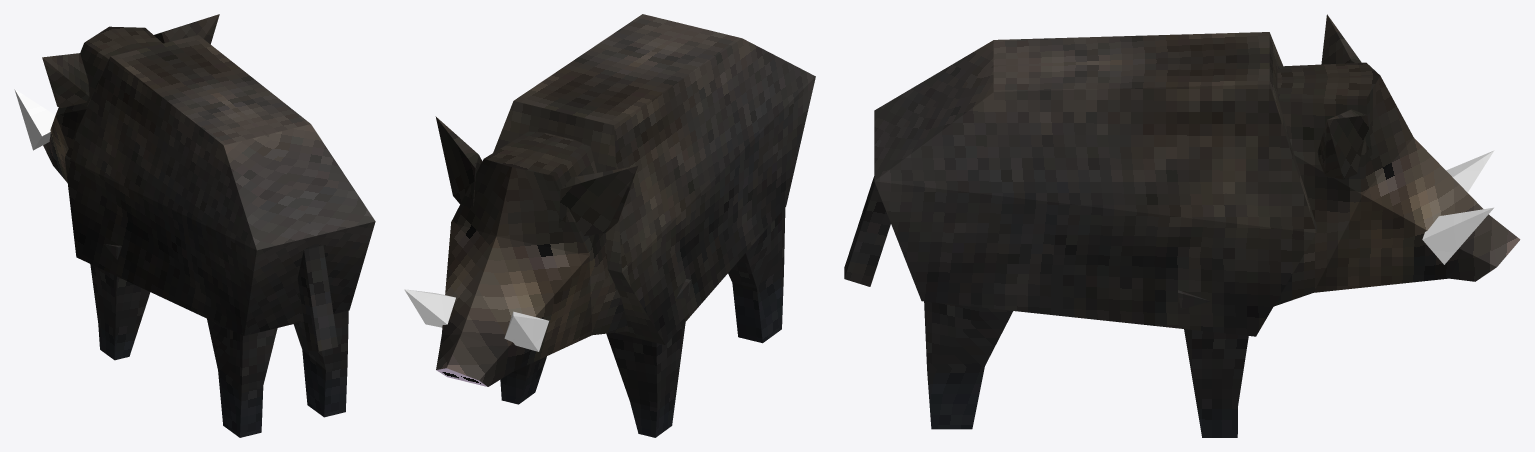
Rendered from Wildboar_Wildboar.glb.
3 views of the same model, side by side, from view 1: azimuth 30°, elevation 25°; view 2: azimuth 150°, elevation 25°; view 3: azimuth 270°, elevation 25° (orthographic). The views are drawn at different scales.
Visible parts, largest first — view 1: Body, Head, Leg3, Leg1, Leg4; view 2: Body, Head, Leg1, Leg3, Leg2; view 3: Body, Head, Leg4, Leg2.
Boxes of the visible parts, box(x1,y1,x2,y2) form: Body: box(64, 35, 375, 351); Head: box(14, 14, 219, 182); Leg3: box(207, 319, 277, 437); Leg1: box(90, 244, 150, 360); Leg4: box(293, 310, 348, 417); Body: box(493, 14, 815, 344); Head: box(404, 116, 637, 386); Leg1: box(606, 279, 690, 437); Leg3: box(728, 205, 785, 343); Leg2: box(500, 356, 546, 404); Body: box(844, 32, 1316, 336); Head: box(1274, 14, 1520, 306); Leg4: box(924, 299, 1013, 429); Leg2: box(1178, 290, 1248, 437).
Size of the model in its own units: 0.5785 by 0.8645 by 1.56.
1 material, 1 textured.
